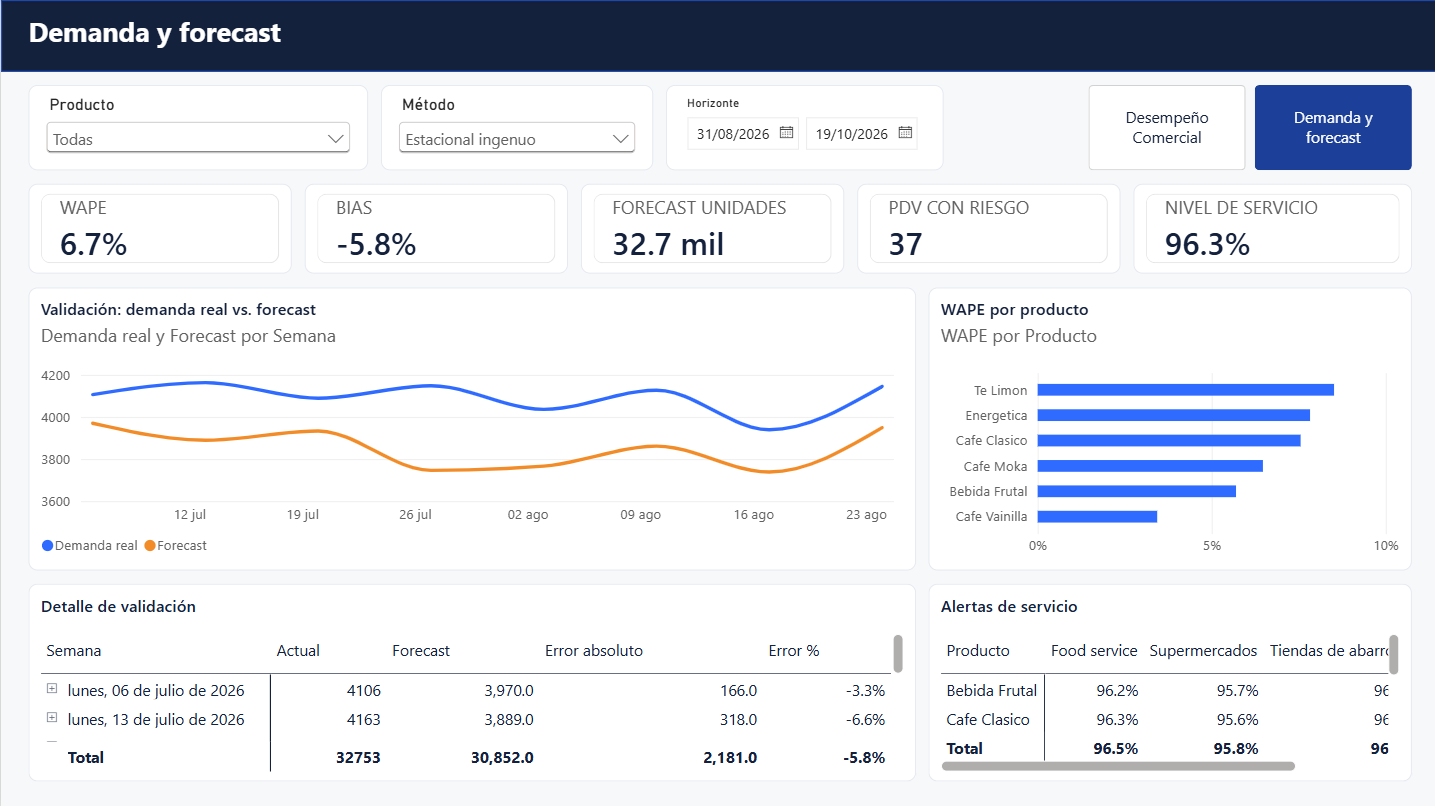

The page's visual inventory and layout, read from the dashboard file:
{"tool":"powerbi","page":{"name":"Demanda y forecast","canvas":[1280,720],"ordinal":1},"visuals":[{"type":"shape","box":[0,0,1280,64],"z":0},{"type":"textbox","box":[24,12,600,40],"z":100},{"type":"slicer","fields":{"Values":["DimProduct.product"]},"box":[24,76,302,76],"z":1000},{"type":"slicer","fields":{"Values":["ForecastHoldout.method"]},"box":[338,76,242,76],"z":1100},{"type":"slicer","fields":{"Values":["ForecastFuture.date"]},"box":[592.4,76,247.3,76],"z":1200},{"type":"pageNavigator","box":[968,76,288,76],"z":1300},{"type":"cardVisual","fields":{"Data":["Medidas.WAPE"]},"box":[24,164,234,80],"z":2000},{"type":"cardVisual","fields":{"Data":["Medidas.Bias"]},"box":[270,164,234,80],"z":2100},{"type":"cardVisual","fields":{"Data":["Medidas.Forecast Unidades"]},"box":[516,164,234,80],"z":2200},{"type":"cardVisual","fields":{"Data":["Medidas.PDV con Riesgo"]},"box":[762,164,234,80],"z":2300},{"type":"cardVisual","fields":{"Data":["Medidas.Nivel de Servicio"]},"box":[1008,164,248,80],"z":2400},{"type":"lineChart","title":"Validación: demanda real vs. forecast","fields":{"Category":["ForecastHoldout.date"],"Y":["Medidas.Actual Holdout","Medidas.Forecast Holdout"]},"box":[24,256,790,252],"z":3000},{"type":"clusteredBarChart","title":"WAPE por producto","fields":{"Category":["DimProduct.product"],"Y":["Medidas.WAPE"]},"box":[826,256,430,252],"z":3100},{"type":"pivotTable","title":"Detalle de validación","fields":{"Rows":["ForecastHoldout.date","DimProduct.product"],"Values":["Medidas.Actual Holdout","Medidas.Forecast Holdout","Medidas.Error Absoluto","Medidas.Error Forecast %"]},"box":[24,520,790,176],"z":4000},{"type":"pivotTable","title":"Alertas de servicio","fields":{"Columns":["DimCustomer.channel"],"Rows":["DimProduct.product"],"Values":["Medidas.Nivel de Servicio"]},"box":[826,520,430,176],"z":4100}]}

Visuals, with their boxes in screenshot pixels (x1, y1, x2, y2), scaled from the page's 1280x720 canvas onto the 1435x806 screenshot:
shape: 0, 0, 1434, 72
textbox: 27, 13, 700, 58
slicer - DimProduct.product: 27, 85, 365, 170
slicer - ForecastHoldout.method: 379, 85, 650, 170
slicer - ForecastFuture.date: 664, 85, 941, 170
pageNavigator: 1085, 85, 1408, 170
cardVisual - Medidas.WAPE: 27, 184, 289, 273
cardVisual - Medidas.Bias: 303, 184, 565, 273
cardVisual - Medidas.Forecast Unidades: 578, 184, 841, 273
cardVisual - Medidas.PDV con Riesgo: 854, 184, 1117, 273
cardVisual - Medidas.Nivel de Servicio: 1130, 184, 1408, 273
"Validación: demanda real vs. forecast" lineChart: 27, 287, 913, 569
"WAPE por producto" clusteredBarChart: 926, 287, 1408, 569
"Detalle de validación" pivotTable: 27, 582, 913, 779
"Alertas de servicio" pivotTable: 926, 582, 1408, 779
